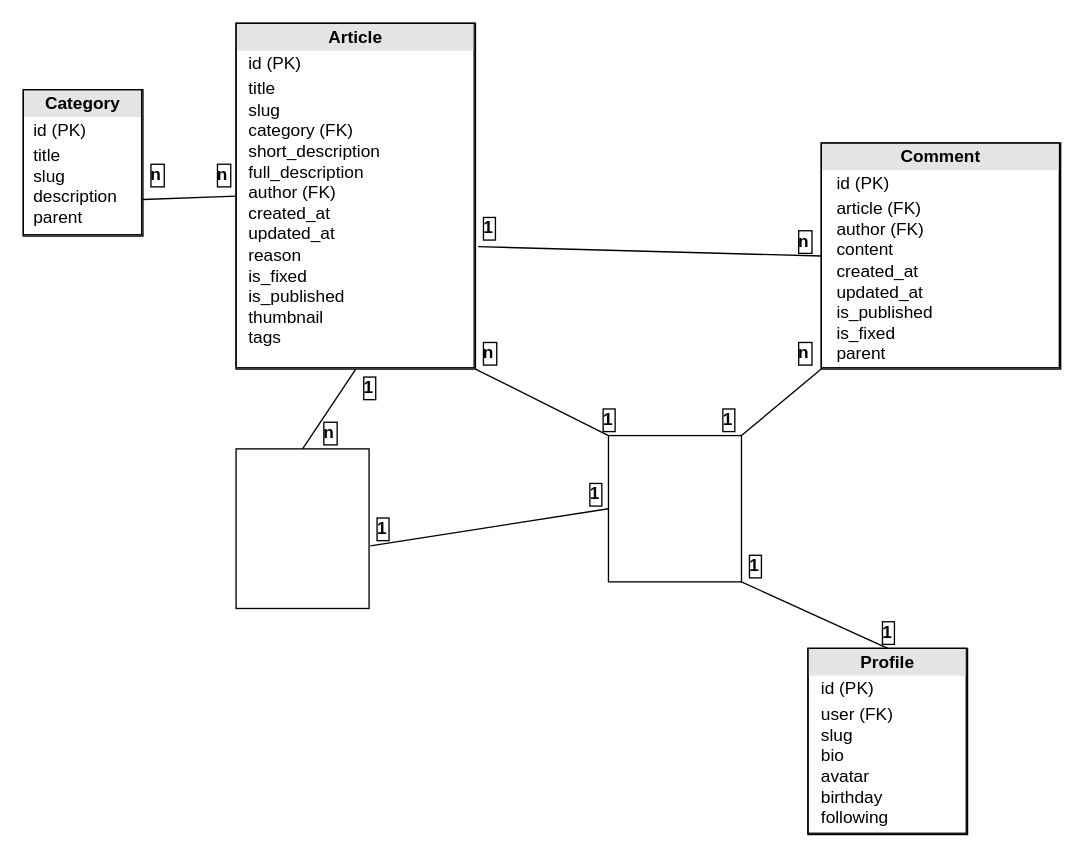
This 1084x858 diagram has some shape labels left out. Here are the shapes that lost their labels. From the top down, the centre of each, then its label:
At [302,528]: "Rating id (PK) article (FK) author (FK) created_at value".
At [674,508]: "User id (PK) username password email ...".
